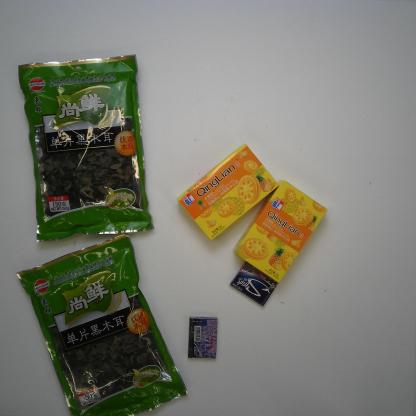Dessert: (231, 178, 329, 286), (176, 144, 282, 242)
Dried Food: (14, 233, 188, 415), (15, 52, 155, 246)
Gum: (229, 260, 278, 307), (185, 314, 219, 362)
